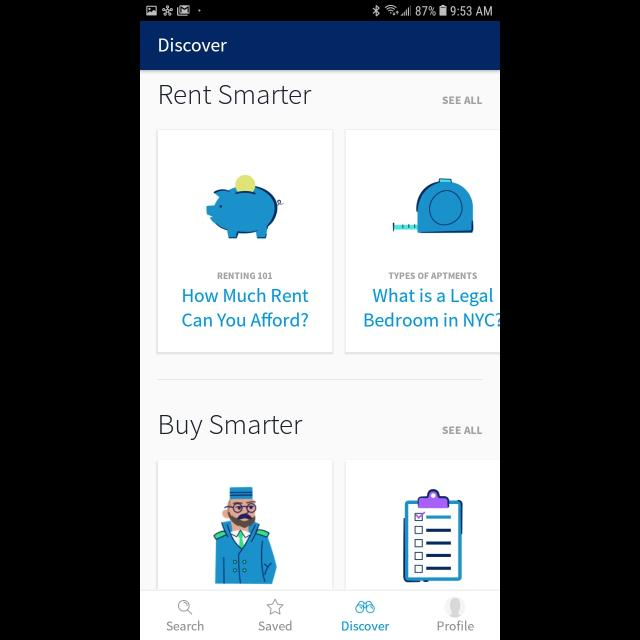icon: (444, 598, 466, 618), (266, 599, 284, 615), (178, 600, 194, 614)
image: (214, 488, 276, 584), (403, 490, 463, 582), (206, 176, 284, 238), (392, 178, 473, 234), (355, 600, 375, 614)
text: (364, 288, 500, 328), (182, 288, 310, 328), (160, 415, 304, 441), (160, 85, 312, 105), (160, 38, 228, 52), (388, 272, 478, 280), (342, 621, 390, 631), (218, 272, 274, 280), (258, 620, 292, 632), (168, 621, 205, 631), (438, 621, 474, 631), (442, 97, 482, 105), (442, 428, 482, 434)
uppertaskbar: (140, 1, 500, 21)
